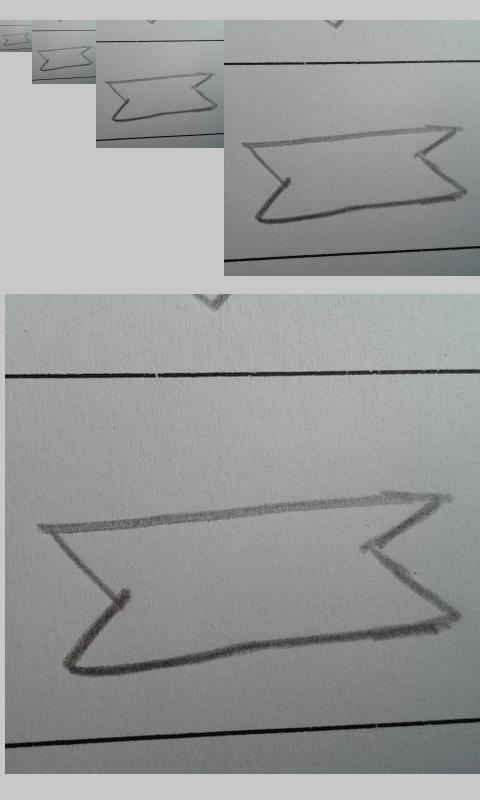edit_text: (37, 487, 456, 680), (245, 124, 465, 225), (103, 72, 217, 122), (37, 46, 93, 71), (1, 33, 31, 46)
